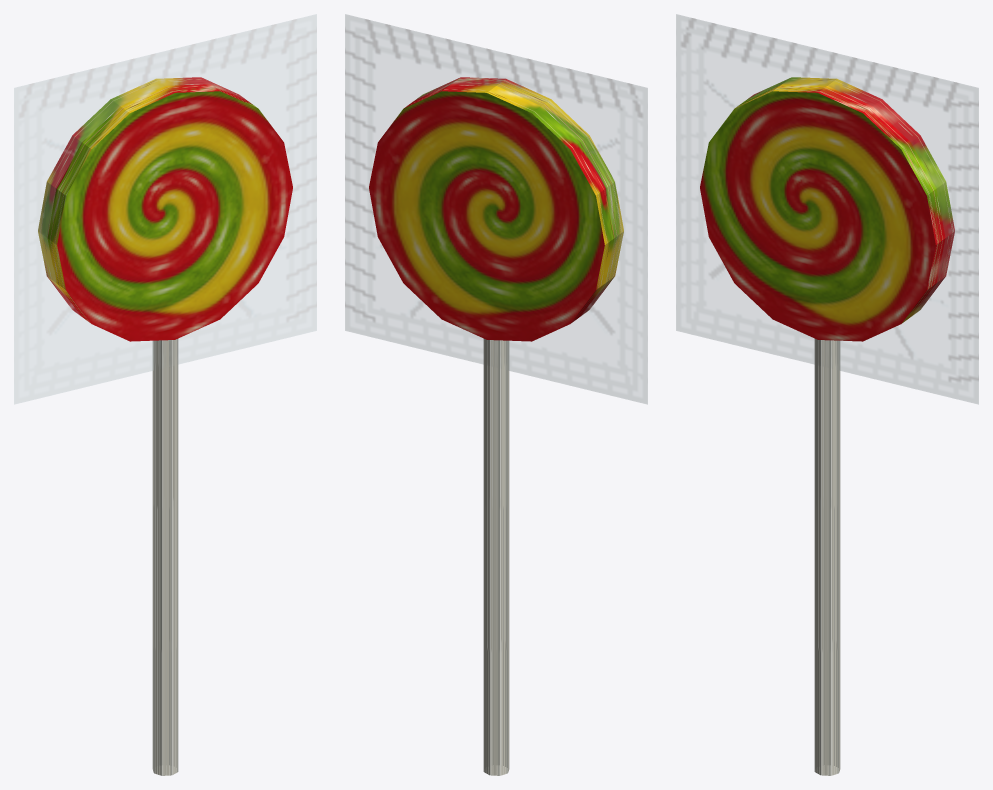
File: WrappedLollipopRed.glb
3 renders of one model, left to right at view 1: azimuth 30°, elevation 25°; view 2: azimuth 150°, elevation 25°; view 3: azimuth 330°, elevation 25°, orthographic.
Parts seen in each view (by area): view 1: WrappedLollipopSwirl; view 2: WrappedLollipopSwirl; view 3: WrappedLollipopSwirl.
Boxes of the visible parts, x1,y1,x2,y2 form: WrappedLollipopSwirl: [14, 14, 316, 775]; WrappedLollipopSwirl: [345, 14, 647, 775]; WrappedLollipopSwirl: [676, 14, 978, 775].
Size of the model in its own units: 1.18 by 2.68 by 0.13.
1 material, 1 textured.
